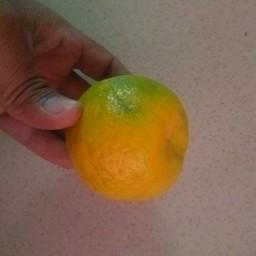Good_orange: (65, 74, 190, 204)
